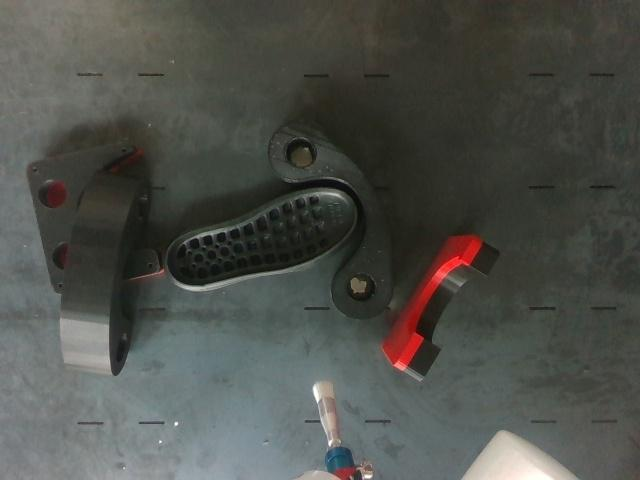shoes: (165, 189, 356, 286)
